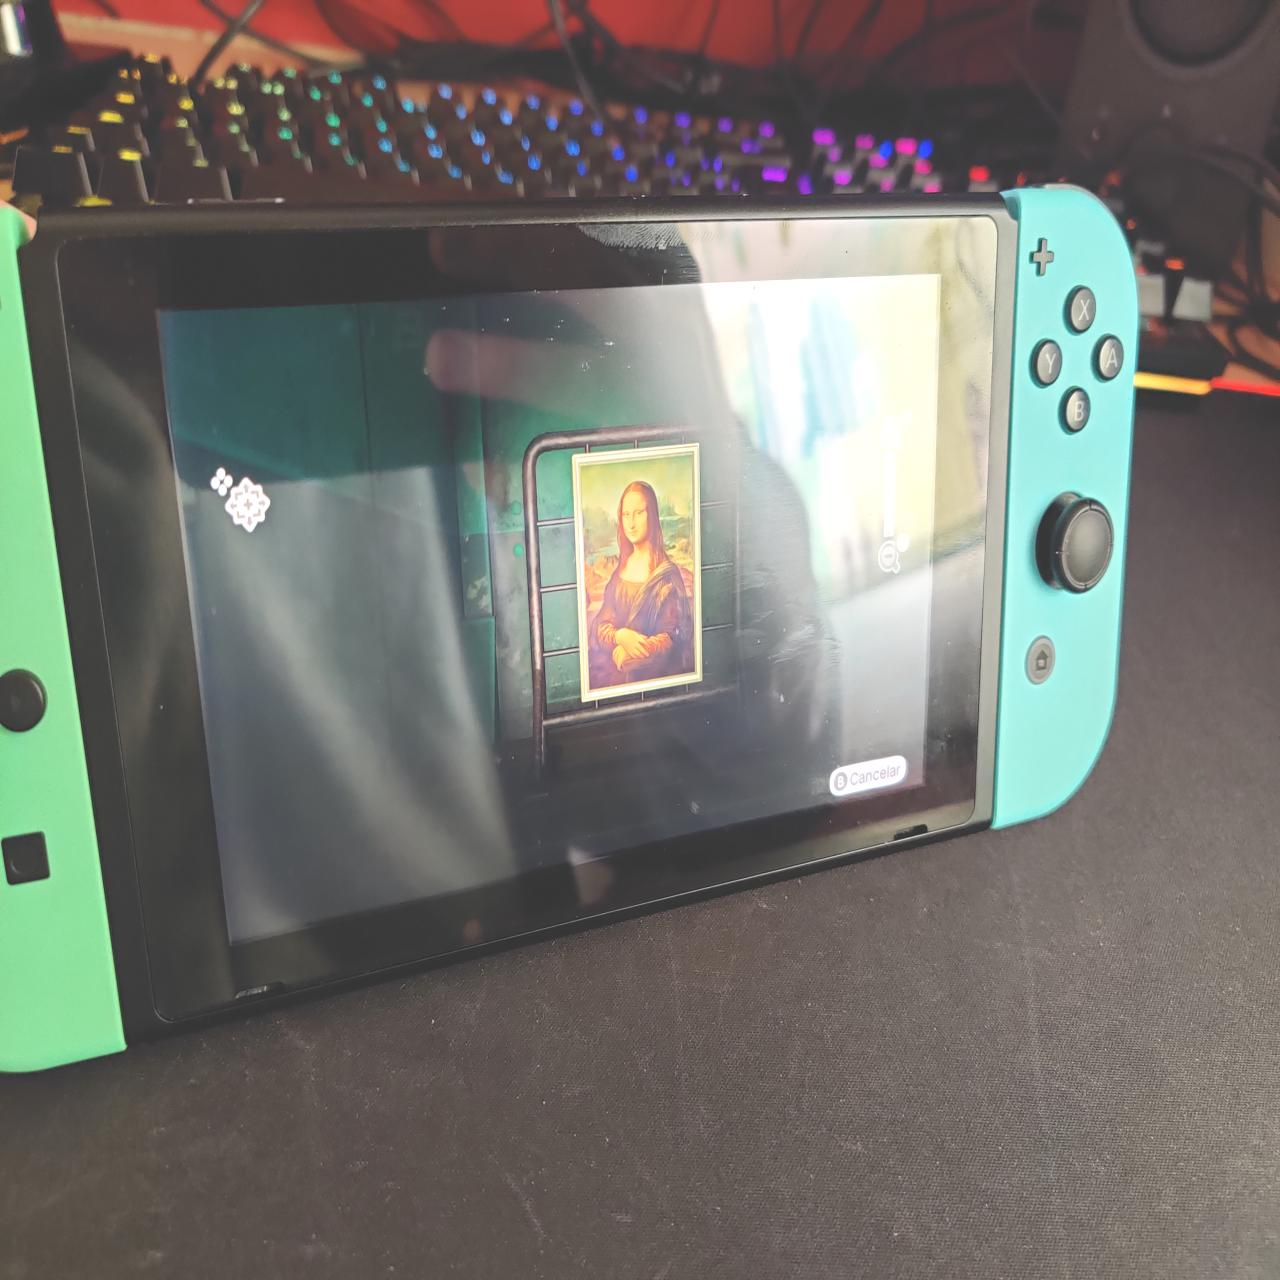MonaLisa: (580, 456, 708, 681)
